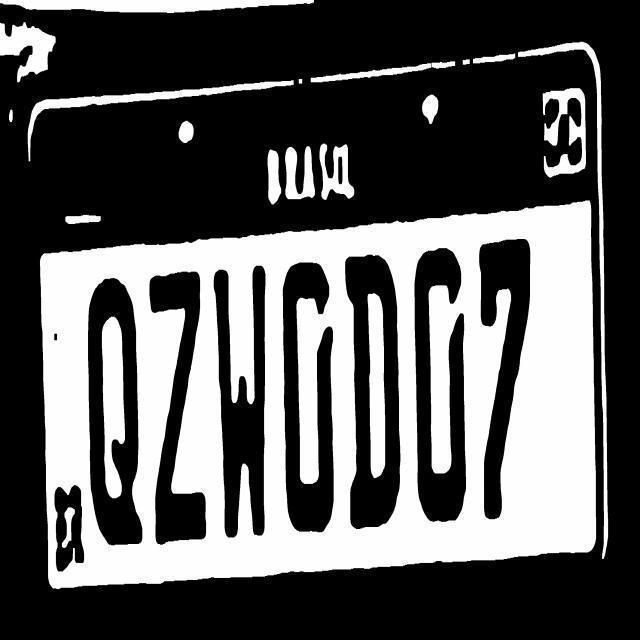0: (410, 233, 471, 536), (278, 255, 339, 546)
7: (477, 226, 535, 527)
d: (345, 247, 407, 539)
q: (84, 270, 148, 551)
w: (212, 258, 273, 548)
z: (146, 260, 208, 550)
